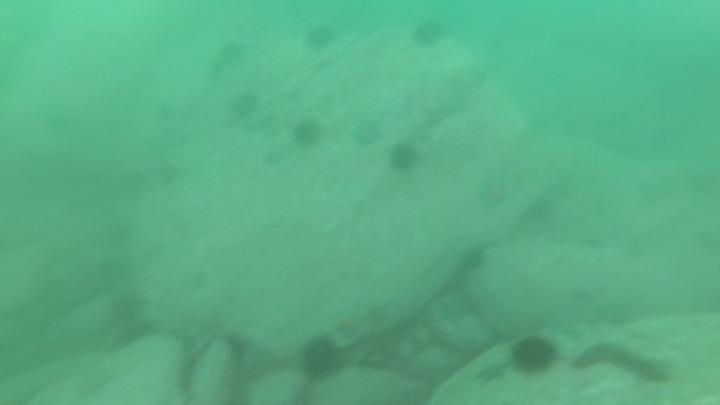echinus: (508, 332, 560, 377), (297, 333, 344, 382), (205, 36, 255, 81), (107, 289, 148, 327), (386, 139, 422, 176), (409, 17, 447, 51), (289, 116, 325, 151), (226, 89, 262, 122), (302, 22, 339, 54), (221, 331, 253, 367), (456, 243, 490, 276), (522, 194, 557, 226), (151, 159, 181, 193)
holothurian: (567, 337, 674, 385)
starfish: (474, 173, 513, 214), (348, 116, 386, 151), (330, 310, 369, 342), (473, 358, 512, 386)
